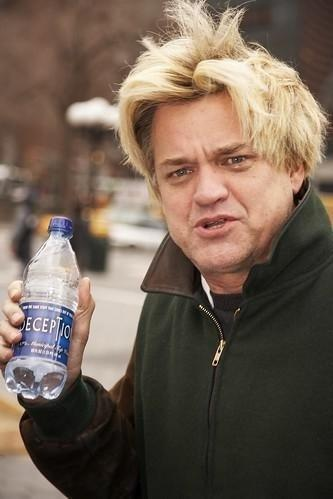bottle-plastic: (3, 216, 83, 401)
